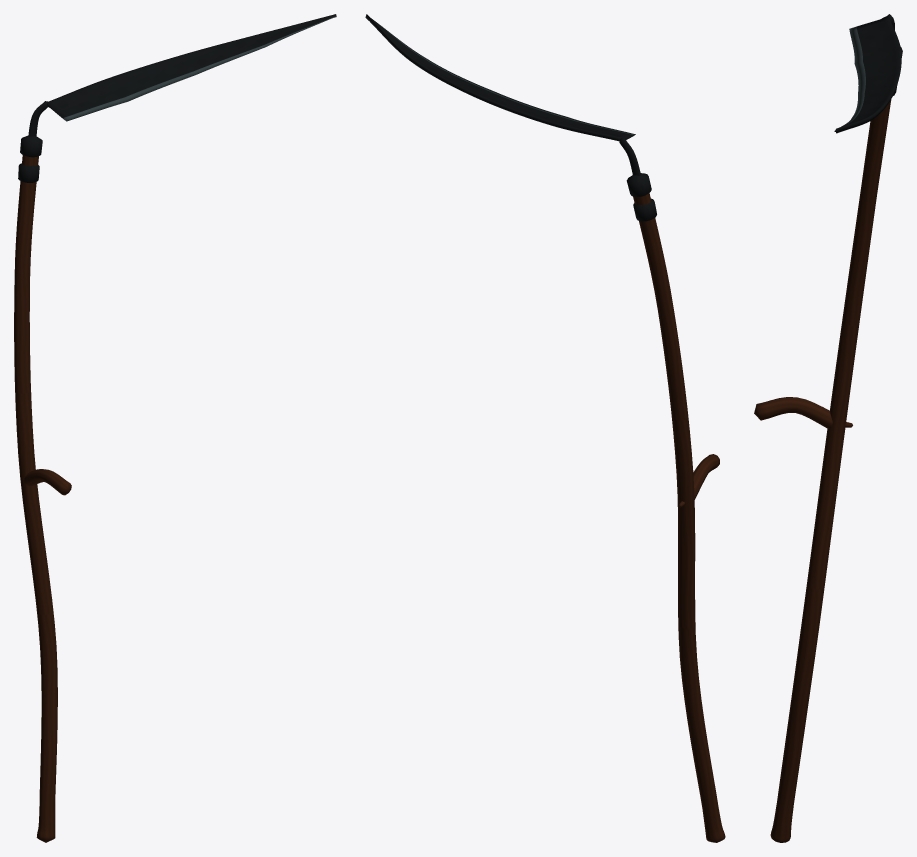
Rendered from scythe.glb.
3 views of the same model, side by side, from view 1: azimuth 30°, elevation 25°; view 2: azimuth 150°, elevation 25°; view 3: azimuth 270°, elevation 25° (orthographic). The views are drawn at different scales.
Visible parts, largest first — view 1: BentSnath, ScytheBlade, SideNib; view 2: BentSnath, ScytheBlade; view 3: BentSnath, ScytheBlade, SideNib.
Part boxes in pixels (bbox=[...]): BentSnath: bbox=[14, 155, 57, 842]; ScytheBlade: bbox=[47, 14, 336, 121]; SideNib: bbox=[24, 469, 71, 495]; BentSnath: bbox=[633, 193, 725, 842]; ScytheBlade: bbox=[365, 14, 635, 141]; BentSnath: bbox=[770, 99, 891, 842]; ScytheBlade: bbox=[834, 16, 901, 133]; SideNib: bbox=[754, 397, 832, 428].
Bounding box in the file's own units: 0.7865 × 1.72 × 0.2575.
3 materials, 3 textured.
